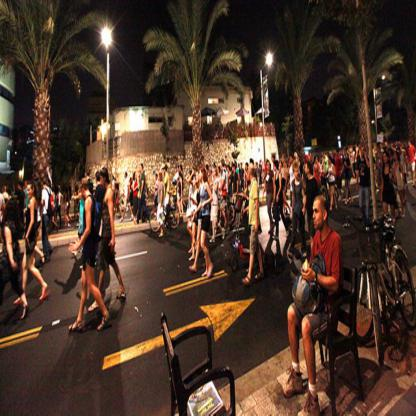face: (313, 199, 323, 230), (27, 186, 33, 198), (101, 175, 106, 188), (295, 169, 300, 178), (305, 164, 309, 175), (361, 148, 365, 158), (384, 155, 388, 164), (200, 170, 203, 181), (197, 174, 200, 184), (194, 177, 197, 186), (18, 184, 21, 191), (214, 170, 217, 177), (268, 163, 271, 170), (275, 164, 278, 171), (395, 154, 398, 161), (248, 170, 251, 177), (162, 169, 165, 175), (340, 150, 343, 156), (379, 144, 382, 150), (399, 147, 402, 153), (140, 167, 143, 172), (392, 147, 395, 152), (329, 158, 331, 165), (135, 173, 137, 179), (233, 166, 235, 172), (289, 161, 291, 167), (323, 153, 325, 159), (338, 151, 340, 157), (344, 151, 347, 155), (409, 142, 411, 148), (280, 161, 282, 167), (218, 170, 220, 175), (283, 158, 285, 163), (291, 158, 293, 163), (246, 165, 248, 170), (317, 158, 319, 163), (159, 176, 161, 180), (228, 167, 230, 171)
